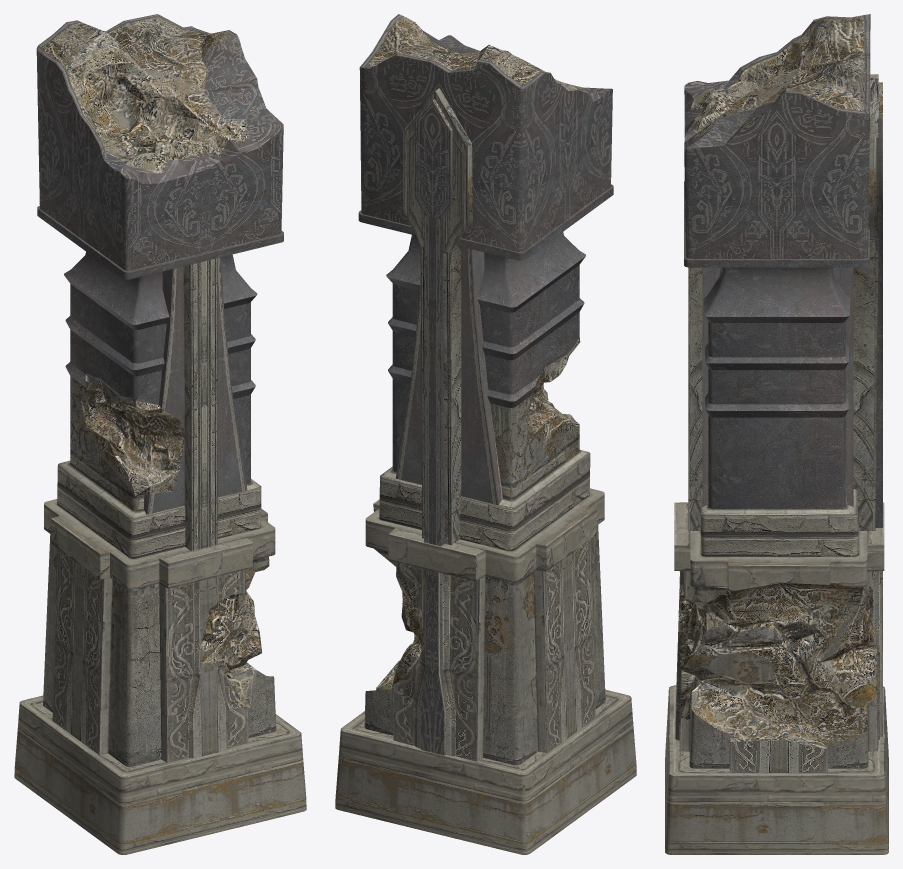
Rendered from Wal4.fbx.
3 views of the same model, side by side, from view 1: azimuth 30°, elevation 25°; view 2: azimuth 150°, elevation 25°; view 3: azimuth 270°, elevation 25° (orthographic). The views are drawn at different scales.
Visible parts, largest first — view 1: LV_Nigraturis_Ancient_Pillar03_SM_HSH; view 2: LV_Nigraturis_Ancient_Pillar03_SM_HSH; view 3: LV_Nigraturis_Ancient_Pillar03_SM_HSH.
Part boxes in pixels (left/top/right/bottom): LV_Nigraturis_Ancient_Pillar03_SM_HSH: left=14, top=14, right=306, bottom=854; LV_Nigraturis_Ancient_Pillar03_SM_HSH: left=335, top=14, right=636, bottom=854; LV_Nigraturis_Ancient_Pillar03_SM_HSH: left=665, top=14, right=888, bottom=854.
Bounding box in the file's own units: 1.64 × 6.24 × 1.65.
